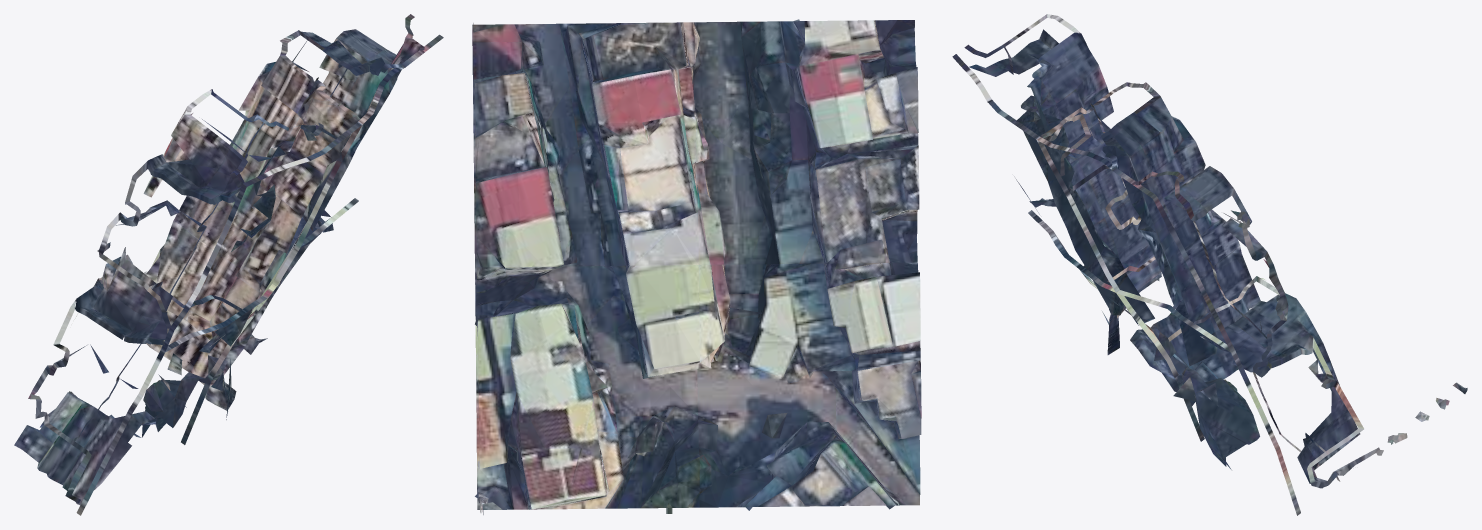
3 renders of one model, left to right at view 1: azimuth 30°, elevation 25°; view 2: azimuth 150°, elevation 25°; view 3: azimuth 270°, elevation 25°, orthographic. The views are drawn at different scales.
Size of the model in its own units: 81.57 by 78.21 by 92.01.
Materials: 1 (1 with a texture image).
